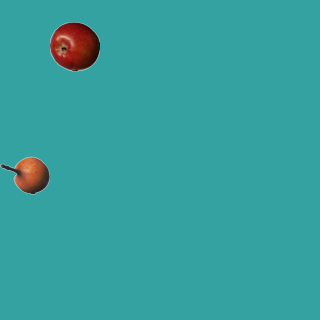Apple Braeburn: (49, 21, 99, 71)
Granadilla: (0, 150, 49, 200)
